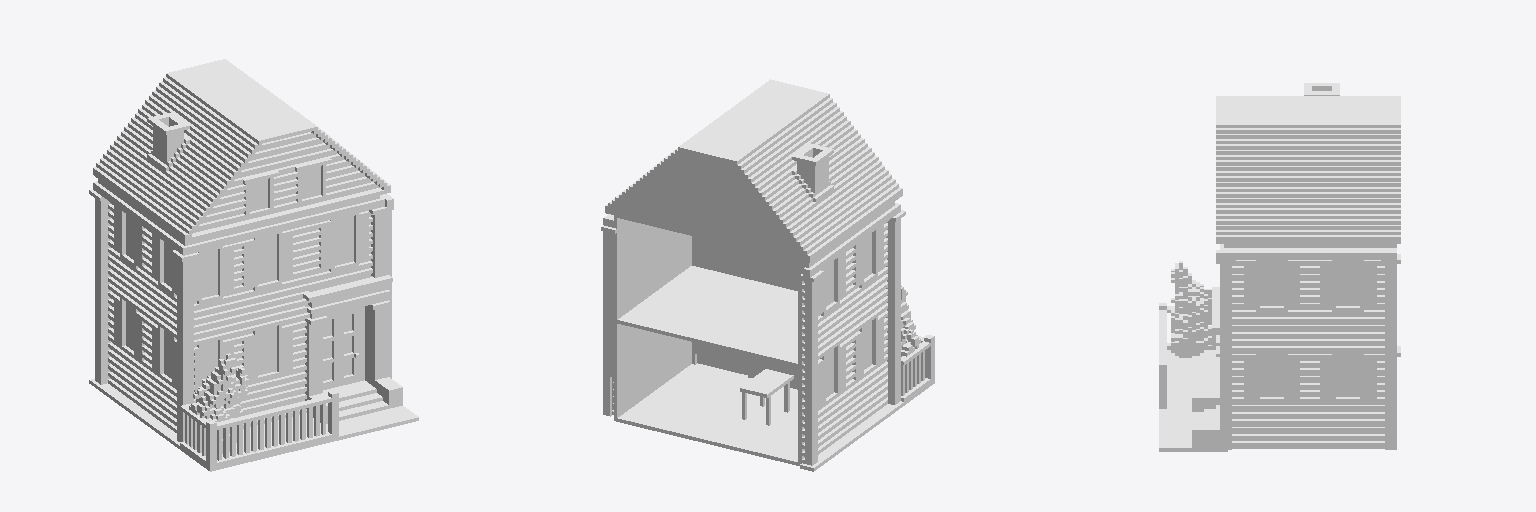
The model's file is shouse.obj.
3 views of the same model, side by side, from view 1: azimuth 30°, elevation 25°; view 2: azimuth 150°, elevation 25°; view 3: azimuth 270°, elevation 25° (orthographic).
Bounding box in the file's own units: 61 × 80 × 60.